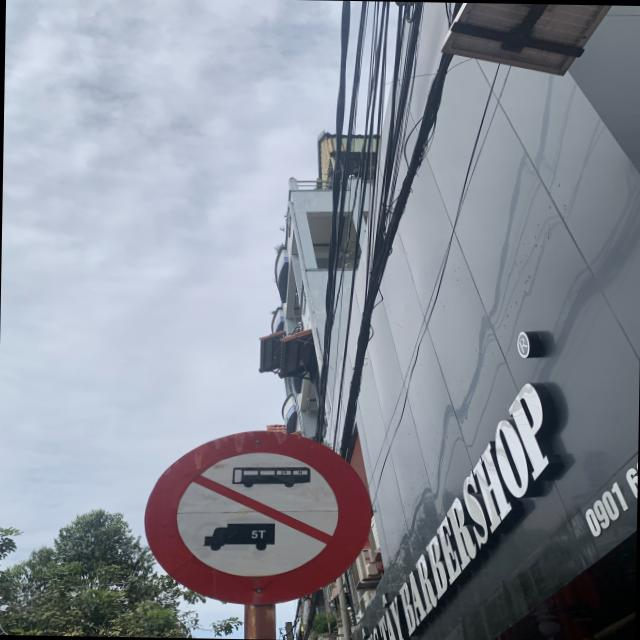Cam_XeTai_XeKhach: (143, 426, 372, 605)
